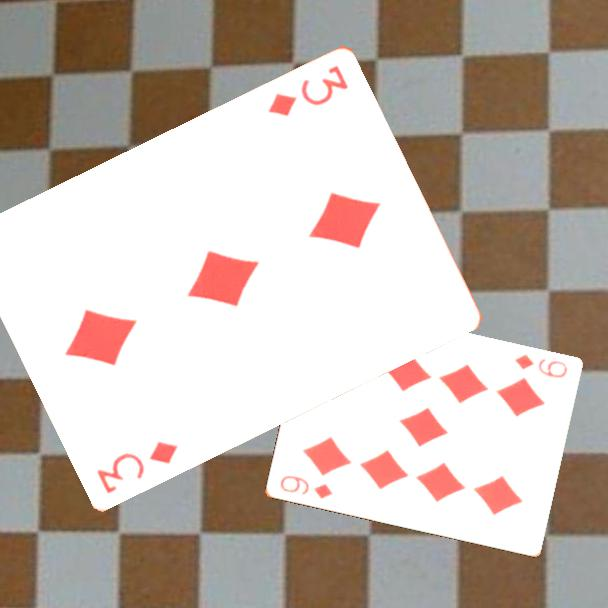d03: (93, 436, 182, 496), (265, 60, 351, 119)
d09: (276, 472, 335, 502), (511, 351, 570, 381)
